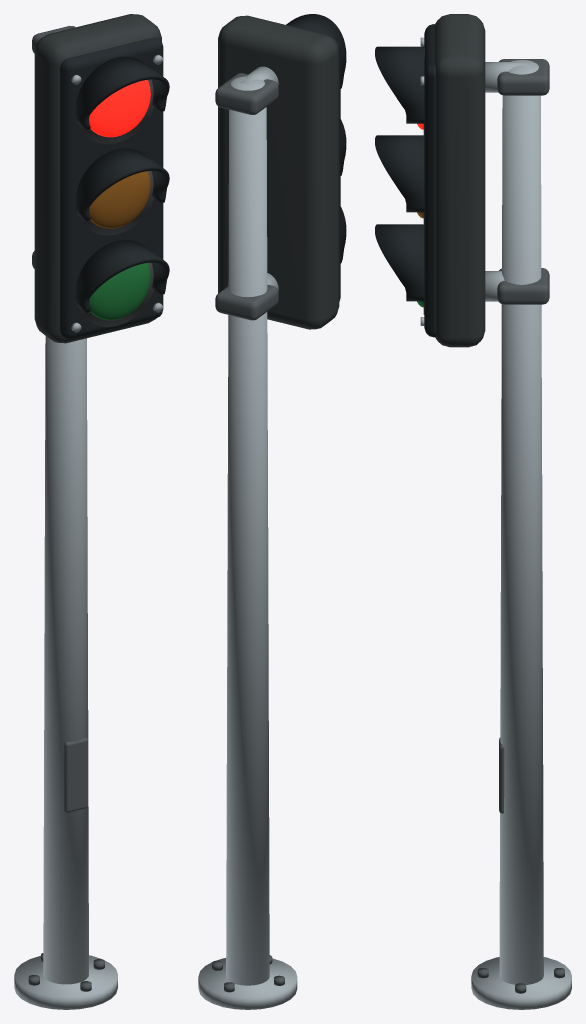
The model's file is Ampel.glb.
3 renders of one model, left to right at view 1: azimuth 30°, elevation 25°; view 2: azimuth 150°, elevation 25°; view 3: azimuth 270°, elevation 25°, orthographic. The views are drawn at different scales.
Parts seen in each view (by area): view 1: Ampel_Verzinkter Stahl, Ampel_Blendschutz Schwarz, Signalgehaeuse, Ampel_Pulverbeschichteter Stahl, Linse_Gelb, Linse_Rot, Linse_Gruen, Ampel_Linsenfassung; view 2: Ampel_Verzinkter Stahl, Signalgehaeuse, Ampel_Pulverbeschichteter Stahl, Ampel_Blendschutz Schwarz; view 3: Ampel_Verzinkter Stahl, Signalgehaeuse, Ampel_Blendschutz Schwarz, Ampel_Pulverbeschichteter Stahl.
Part boxes in pixels (box(x1,y1,x2,y2)): Ampel_Verzinkter Stahl: box(14, 30, 162, 1009); Ampel_Blendschutz Schwarz: box(60, 37, 169, 339); Signalgehaeuse: box(34, 14, 161, 343); Ampel_Pulverbeschichteter Stahl: box(28, 26, 104, 991); Linse_Gelb: box(89, 171, 150, 228); Linse_Rot: box(89, 80, 150, 137); Linse_Gruen: box(89, 263, 150, 320); Ampel_Linsenfassung: box(79, 79, 153, 327); Ampel_Verzinkter Stahl: box(198, 66, 297, 1009); Signalgehaeuse: box(218, 15, 339, 329); Ampel_Pulverbeschichteter Stahl: box(212, 73, 284, 992); Ampel_Blendschutz Schwarz: box(286, 14, 346, 301); Ampel_Verzinkter Stahl: box(420, 37, 571, 1009); Signalgehaeuse: box(434, 14, 485, 347); Ampel_Blendschutz Schwarz: box(375, 24, 436, 337); Ampel_Pulverbeschichteter Stahl: box(477, 59, 564, 993).
Bounding box in the file's own units: 0.366 × 3.03 × 0.568.
